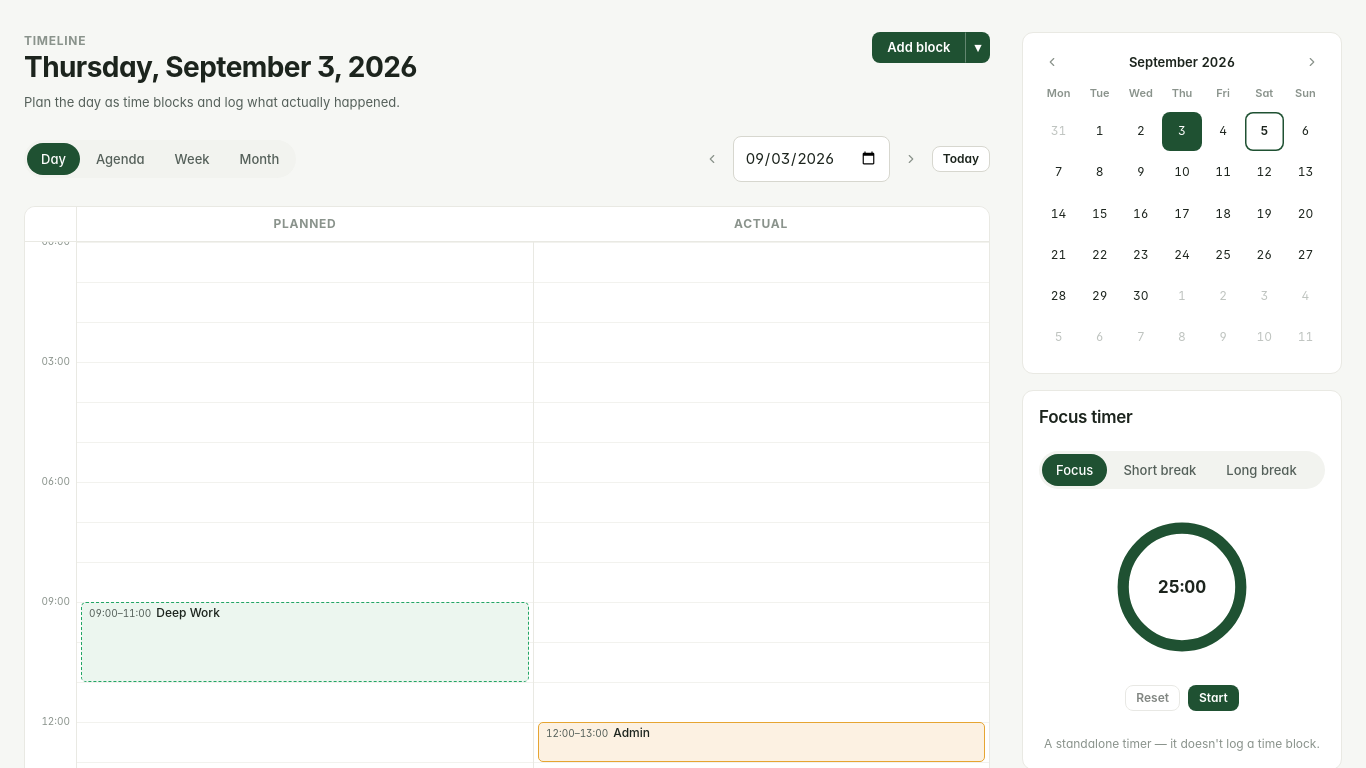
TimelineScreen › switches to Month view (G2) and shows the month name as the header title
The image size is (1366, 768).
Click the radio button labelled "Month" at (259, 159), box [226,143,293,175]
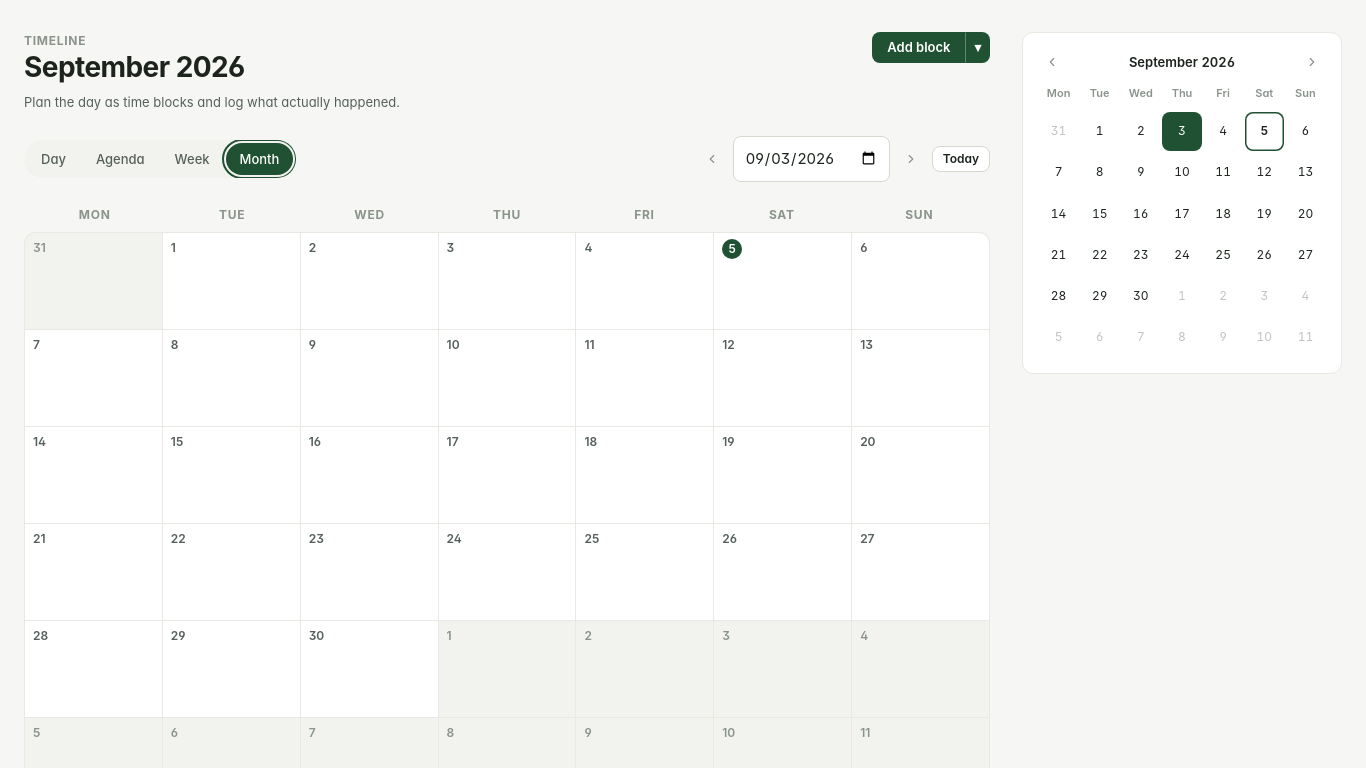
Now the heading "September 2026" is shown, box [24,51,245,84]
